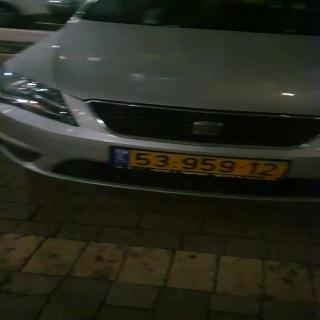LicensePlate: (130, 150, 287, 179)
